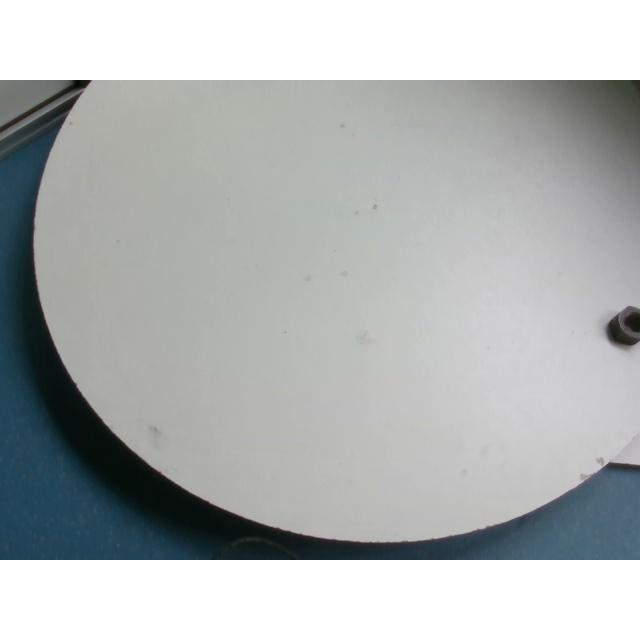M30: (607, 304, 639, 348)
